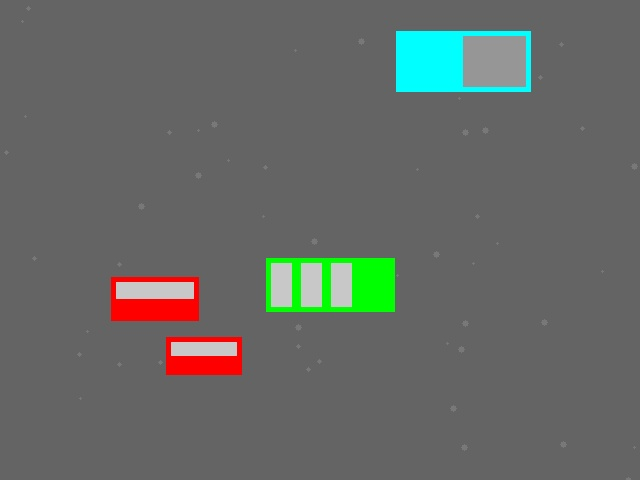bus: (266, 258, 394, 311)
car: (111, 277, 198, 320), (166, 337, 241, 374)
truck: (396, 31, 530, 91)
